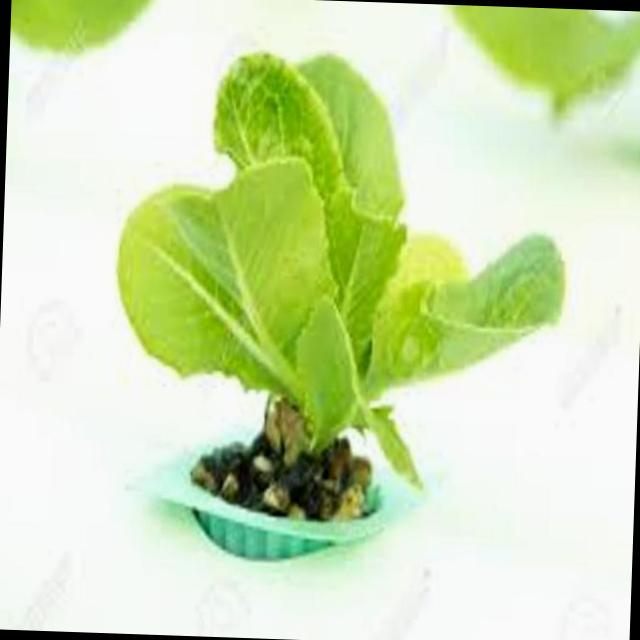Lettuce-Ready-to-Harvest: (119, 53, 563, 519), (454, 5, 640, 111)
